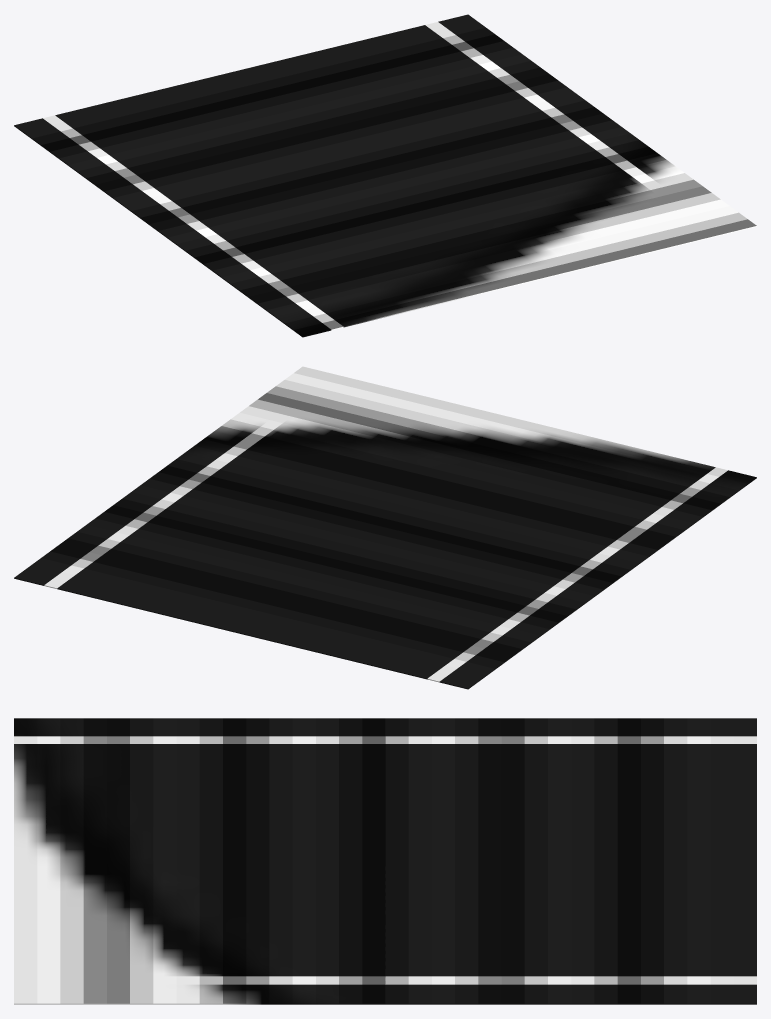
File: Level 52 Unroll Red Carpet.fbx
3 renders of one model, top to bottom at view 1: azimuth 30°, elevation 25°; view 2: azimuth 150°, elevation 25°; view 3: azimuth 270°, elevation 25°, orthographic. The views are drawn at different scales.
Parts seen in each view (by area): view 1: Blend; view 2: Blend; view 3: Blend.
Boxes of the visible parts, x1,y1,x2,y2 form: Blend: (14,14,756,337); Blend: (14,366,756,689); Blend: (14,718,756,1004).
Size of what is drawn, in the model's own units: 563 by 1 by 620.
